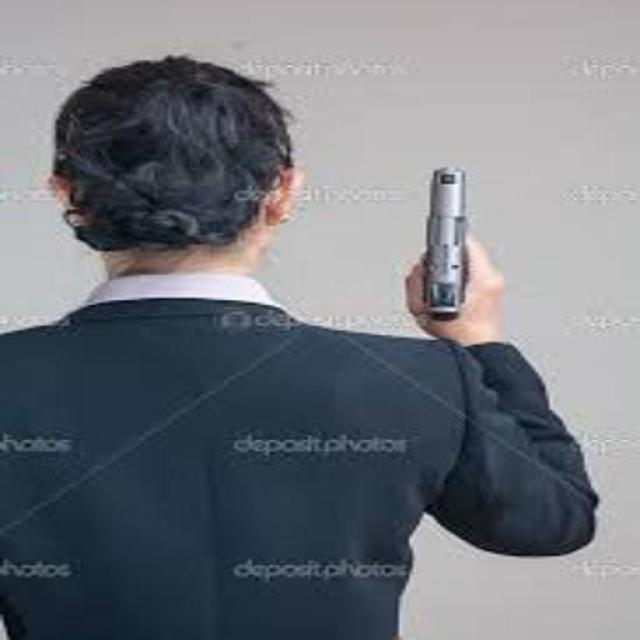pistol: (422, 168, 471, 319)
